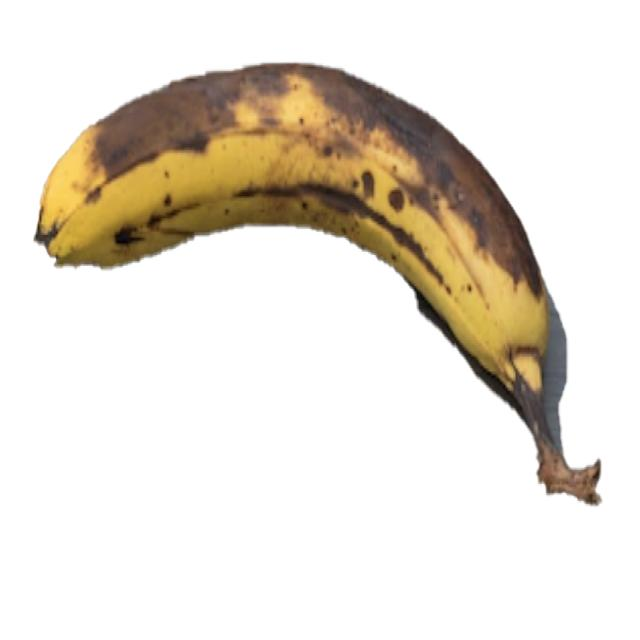rotten-banana: (33, 58, 602, 506)
